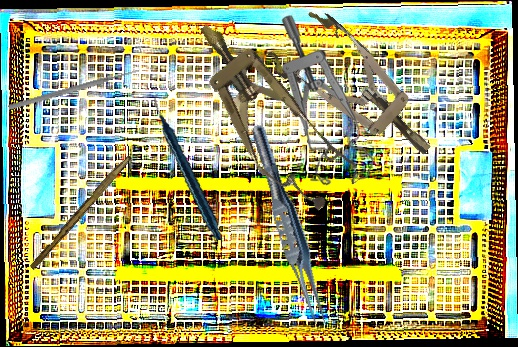Handpiece: (130, 93, 247, 241)
Pusher: (7, 66, 142, 112)
Scalpel Handle: (28, 151, 133, 273)
Speculum: (169, 1, 368, 225), (262, 1, 453, 182), (275, 13, 380, 189)
Tissue Forceps: (241, 120, 337, 335)
